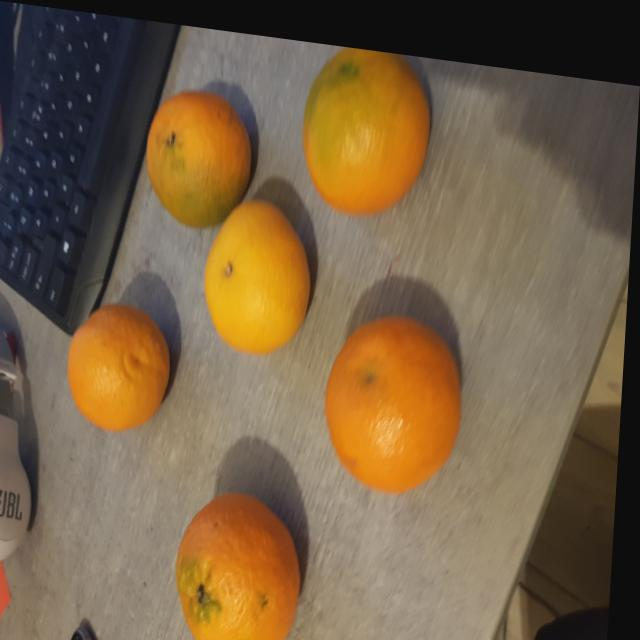Orange: (330, 303, 467, 482), (304, 36, 432, 205), (182, 484, 309, 640), (207, 189, 315, 347), (148, 83, 253, 223), (72, 299, 174, 427)
